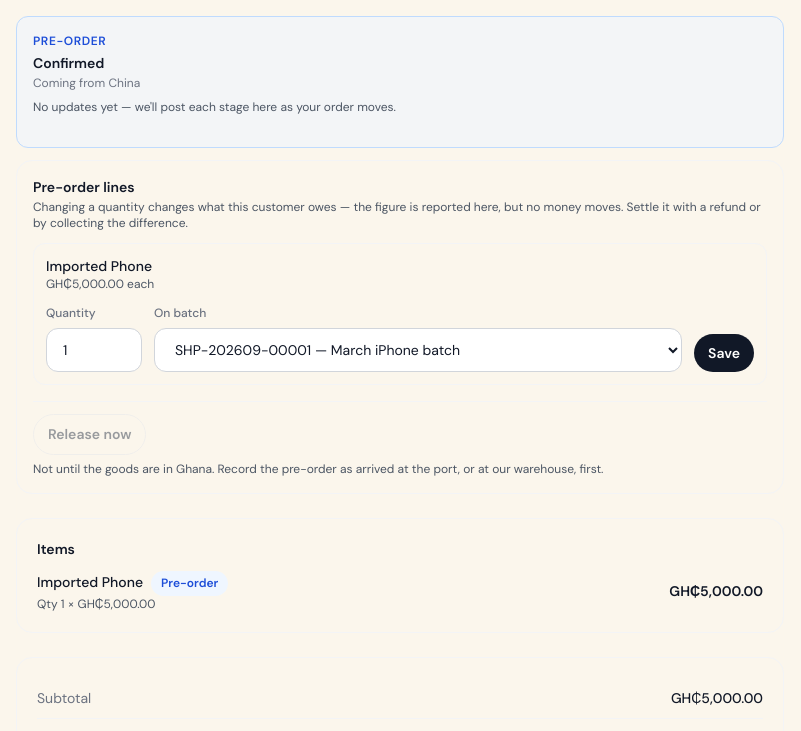
Scenario: Staff order detail — editing the pre-order line (T45) › says what a quantity change left the customer owing
(page scrolled)
Click the button "Save".
click(724, 353)  # box [694, 334, 754, 372]
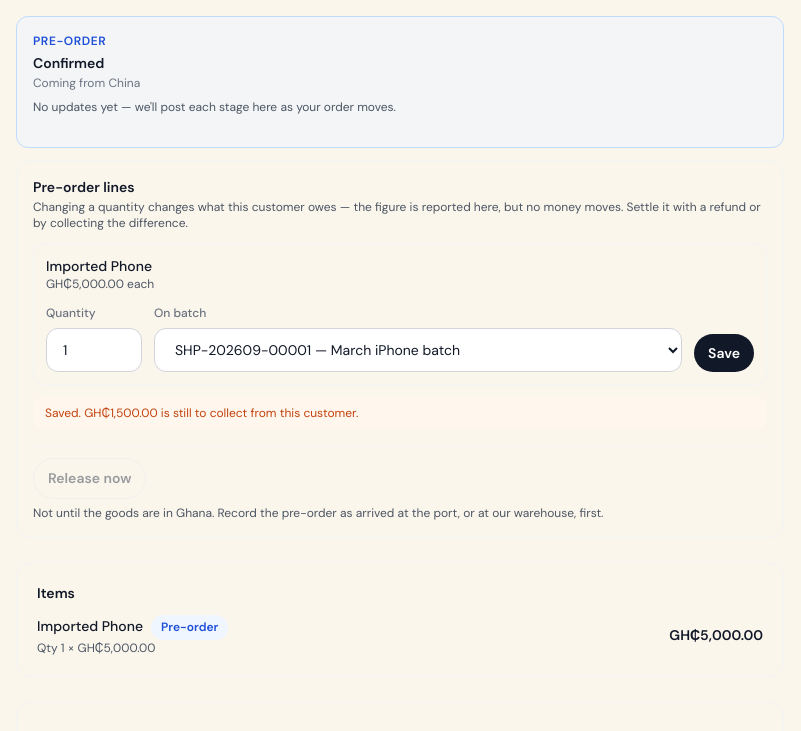
Expected: the text "Saved. GH₵1,500.00 is still to collect from this customer." is shown, [33, 397, 767, 429]
